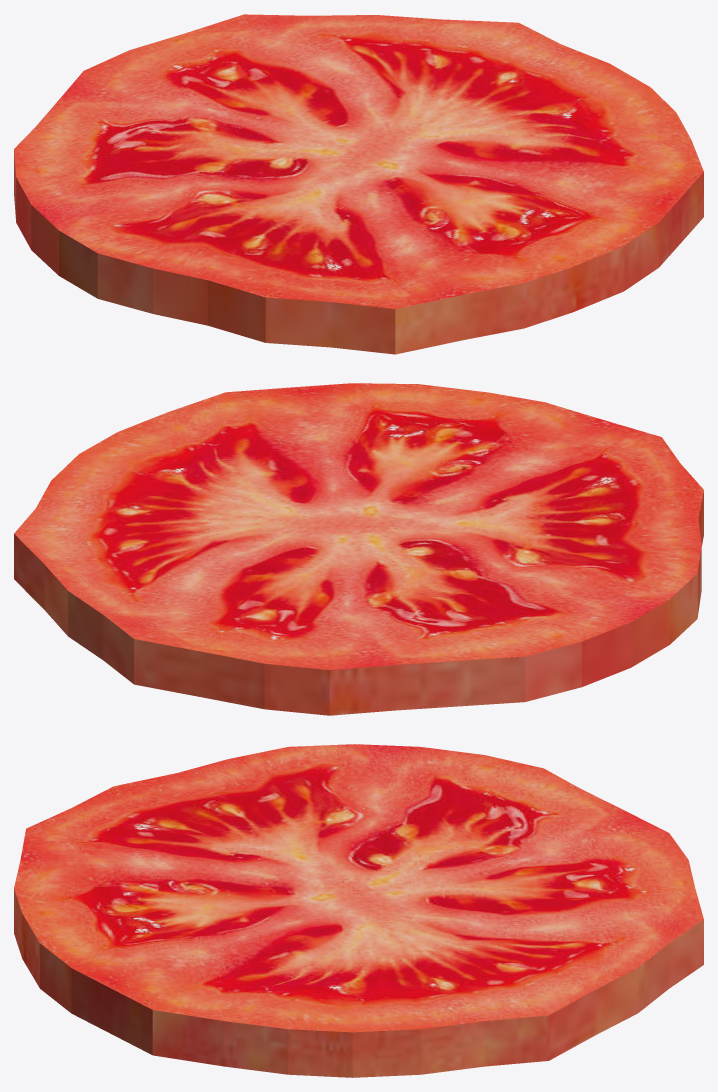
Rendered from tomato.fbx.
3 renders of one model, top to bottom at view 1: azimuth 30°, elevation 25°; view 2: azimuth 150°, elevation 25°; view 3: azimuth 270°, elevation 25°, orthographic.
Visible parts, largest first — view 1: tomato; view 2: tomato; view 3: tomato.
Part boxes in pixels (left/top/right/bottom): tomato: left=14, top=14, right=703, bottom=354; tomato: left=14, top=383, right=703, bottom=715; tomato: left=14, top=744, right=703, bottom=1077.
Bounding box in the file's own units: 10.01 × 0.7556 × 10.13.
1 material, 1 textured.
